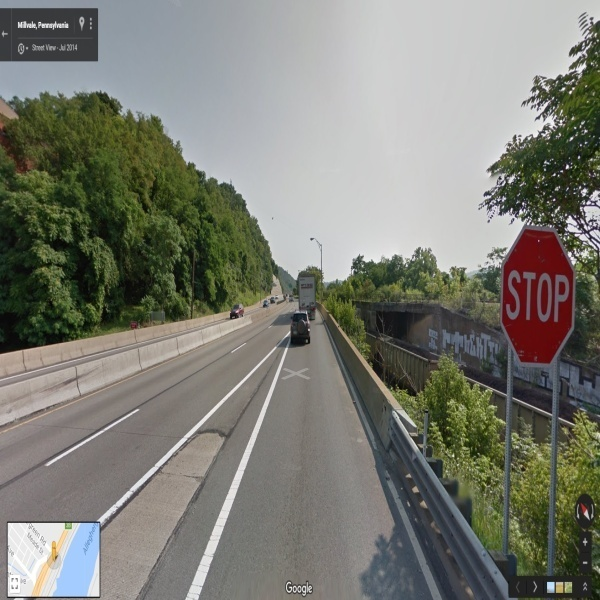stop: (503, 224, 572, 365)
